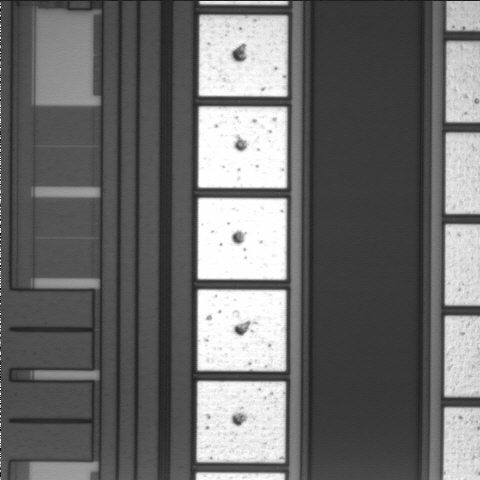pad: (199, 15, 288, 97), (198, 106, 287, 188), (198, 198, 287, 280), (197, 381, 286, 463), (197, 290, 286, 371)
